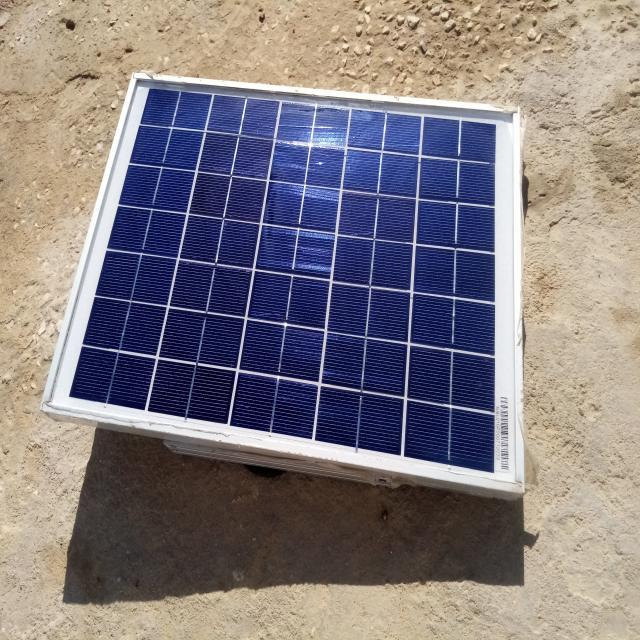no faulty: (45, 74, 523, 488)
